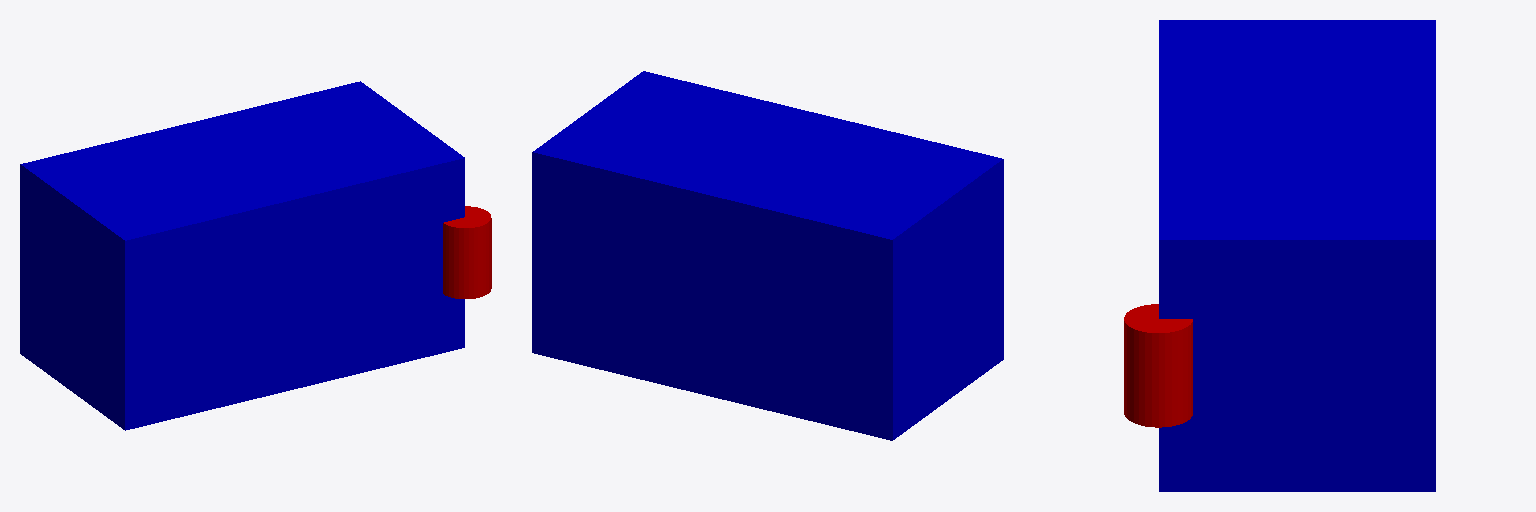
URDF robot description (quadruped):
<?xml version="1.0"?>
<robot name="quadruped" xmlns:xacro="http://ros.org/wiki/xacro">

    <!--
    Dimensions from quadruped.lua


    local FRAME_LEN = 80    - frame length in mm
    local FRAME_WIDTH = 150 - frame width in mm

    local COXA_LEN = 30     - distance (in mm) from coxa (aka hip) servo to femur servo
    local FEMUR_LEN = 85    - distance (in mm) from femur servo to tibia servo
    local TIBIA_LEN = 125   - distance (in mm) from tibia servo to foot
    -->


    <material name="blue">
        <color rgba="0 0 0.8 1"/>
    </material>

    <material name="white">
        <color rgba="1 1 1 1"/>
    </material>

    <material name="red">
        <color rgba="0.8 0 0 1"/>
    </material>

    <link name="base_link">
        <visual>
            <geometry>
                <box size="0.150 0.08 0.08"/>
            </geometry>
            <material name="blue"/>
        </visual>
        <collision>
            <geometry>
                <box size="0.150 0.08 0.08"/>
            </geometry>
        </collision>
        <inertial>
            <origin rpy="0 0 0" xyz="0 0 0"/>
            <mass value="0.1" />
            <inertia 
                ixx="0.000106667"
                ixy="0"
                ixz="0"
                iyy="0.000240833"
                iyz="0"
                izz="0.000240833" />
        </inertial>
    </link>

    <gazebo reference="base_link">
        <material>Gazebo/Blue</material>
    </gazebo>

    <!-- #FRONT RIGHT -->
    <link name="coxa_FR">
        <origin rpy="1.57 0 0" xyz="0.0 -0.015 0"/>
        <visual>
            <geometry>
                <cylinder length="0.03" radius="0.01"/>
            </geometry>
            <material name="red"/>
        </visual>
        <collision>
            <geometry>
                <cylinder length="0.03" radius="0.01"/>
            </geometry>
        </collision>
        <inertial>
            <origin rpy="0 0 0" xyz="0 0 0"/>
            <mass value="0.1" />
            <inertia 
                ixx="0.00001"
                ixy="0"
                ixz="0"
                iyy="0.00001"
                iyz="0"
                izz="0.000005" />
        </inertial>
    </link>

    <gazebo reference="coxa_FR">
        <material>Gazebo/Red</material>
    </gazebo>

    <!--
    <link name="femur_FR">
        <origin xyz="0 0 -0.0425"/>
        <visual>
            <geometry>
                <cylinder length="0.085" radius="0.01"/>
            </geometry>
            <material name="white"/>
        </visual>
        <collision>
            <geometry>
                <cylinder length="0.085" radius="0.01"/>
            </geometry>
        </collision>
        <inertial>
            <origin rpy="0 0 0" xyz="0 0 0"/>
            <mass value="0.1" />
            <inertia 
                ixx="6.27083E-05"
                ixy="0"
                ixz="0"
                iyy="6.27083E-05"
                iyz="0"
                izz="0.000005" />
        </inertial>
    </link>

    <gazebo reference="femur_FR">
        <material>Gazebo/White</material>
    </gazebo>

    <link name="tibia_FR">
        <origin xyz="0 0 -0.0625"/>
        <visual>
            <geometry>
                <cylinder length="0.125" radius="0.01"/>
            </geometry>
            <material name="blue"/>
        </visual>
        <collision>
            <geometry>
                <cylinder length="0.125" radius="0.01"/>
            </geometry>
        </collision>
        <inertial>
            <origin rpy="0 0 0" xyz="0 0 0"/>
            <mass value="0.1" />
            <inertia 
                ixx="0.000132708"
                ixy="0"
                ixz="0"
                iyy="0.000132708"
                iyz="0"
                izz="0.000005" />
        </inertial>
    </link>

    <gazebo reference="tibia_FR">
        <material>Gazebo/Blue</material>
    </gazebo>

    <link name="foot_FR">
        <visual>
            <geometry>
                <sphere radius="0.02"/>
            </geometry>
            <material name="red"/>
        </visual>
        <collision>
            <geometry>
                <sphere radius="0.02"/>
            </geometry>
        </collision>
        <inertial>
            <origin rpy="0 0 0" xyz="0 0 0"/>
            <mass value="0.1" />
            <inertia 
                ixx="0.000016"
                ixy="0"
                ixz="0"
                iyy="0.000016"
                iyz="0"
                izz="0.000016" />
        </inertial>
    </link>

    <gazebo reference="foot_FR">
        <material>Gazebo/Red</material>
    </gazebo>
    -->

    <joint name="coxaF_FR" type="revolute">
        <origin rpy="0 0 0.785398" xyz="0.075 -0.04 0"/>
        <axis xyz="0 0 1"/>
        <limit
            lower="-3.142"
            upper="3.142"
            effort="1000.0"
            velocity="0.5"/>
        <parent link="base_link"/>
        <child link="coxa_FR"/>
    </joint>

    <!--
    <joint name="femurF_FR" type="revolute">
        <origin rpy="4.71239 0 0" xyz="0 -0.03 0"/>
        <axis xyz="1 0 0"/>
        <limit
            lower="-3.142"
            upper="3.142"
            effort="1000.0"
            velocity="0.5"/>
        <parent link="coxa_FR"/>
        <child link="femur_FR"/>
    </joint>

    <joint name="tibiaF_FR" type="revolute">
        <origin rpy="1.5708 0 0" xyz="0 0 -0.085"/>
        <axis xyz="1 0 0"/>
        <limit
            lower="-3.142"
            upper="3.142"
            effort="1000.0"
            velocity="0.5"/>
        <parent link="femur_FR"/>
        <child link="tibia_FR"/>
    </joint>

    <joint name="footF_FR" type="fixed">
        <origin rpy="0 0 0" xyz="0 0 -0.125" />
        <parent link="tibia_FR"/>
        <child link="foot_FR"/>
    </joint>
    -->

    <!-- #FRONT LEFT -->
    <!-- <link name="coxa_FL">
        <origin rpy="1.57 0 0" xyz="0.0 -0.015 0"/>
        <visual>
            <geometry>
                <cylinder length="0.03" radius="0.01"/>
            </geometry>
            <material name="red"/>
        </visual>
        <collision>
            <geometry>
                <cylinder length="0.03" radius="0.01"/>
            </geometry>
        </collision>
        <inertial>
            <origin rpy="0 0 0" xyz="0 0 0"/>
            <mass value="0.1" />
            <inertia 
                ixx="0.00001"
                ixy="0"
                ixz="0"
                iyy="0.00001"
                iyz="0"
                izz="0.000005" />
        </inertial>
    </link> -->

    <!-- <link name="coxa_FL">
        <visual>
            <geometry>
                <cylinder length="0.3" radius="0.1"/>
            </geometry>
            <origin rpy="1.57 0 0" xyz="0 -0.15 0"/>
            <material name="red"/>
        </visual>
    </link>

    <link name="femur_FL">
        <visual>
            <geometry>
                <cylinder length="0.85" radius="0.1"/>
            </geometry>
            <origin xyz="0 0 -0.425"/>
            <material name="white"/>
        </visual>
    </link>

    <link name="tibia_FL">
        <visual>
            <geometry>
                <cylinder length="1.25" radius="0.1"/>
            </geometry>
            <origin xyz="0 0 -0.625"/>
            <material name="blue"/>
        </visual>
    </link>

    <link name="foot_FL">
        <collision>
            <geometry>
                <sphere radius="0.2"/>
            </geometry>
        </collision>
        <mass value="200.843" />
        <visual>
            <geometry>
                <sphere radius="0.2"/>
            </geometry>
            <material name="red"/>
        </visual>
    </link>

    <joint name="coxaF_FL" type="revolute">
        <axis xyz="0 0 1"/>
        <limit effort="1000.0" velocity="0.5"/>
        <parent link="base_link"/>
        <child link="coxa_FL"/>
        <origin rpy="0 0 2.35619" xyz="0.74 0.4 0"/>
    </joint>

    <joint name="femurF_FL" type="revolute">
        <axis xyz="1 0 0"/>
        <limit effort="1000.0" velocity="0.5"/>
        <parent link="coxa_FL"/>
        <child link="femur_FL"/>
        <origin rpy="4.71239 0 0" xyz="0 -0.3 0"/>
    </joint>

    <joint name="tibiaF_FL" type="revolute">
        <axis xyz="1 0 0"/>
        <limit effort="1000.0" velocity="0.5"/>
        <parent link="femur_FL"/>
        <child link="tibia_FL"/>
        <origin rpy="1.5708 0 0" xyz="0 0 -0.85"/>
    </joint>

    <joint name="footF_FL" type="fixed">
        <parent link="tibia_FL"/>
        <child link="foot_FL"/>
        <origin xyz="0 0 -1.25"/>
    </joint> -->

    <!-- BACK RIGHT -->

    <!-- <link name="coxa_BR">

    <visual>
        <geometry>
            <cylinder length="0.3" radius="0.1"/>
        </geometry>
        <origin rpy="1.57 0 0" xyz="0.0 -0.15 0"/>
        <material name="red"/>
    </visual>

    </link>

    <link name="femur_BR">
        <visual>
            <geometry>
                <cylinder length="0.85" radius="0.1"/>
            </geometry>
            <origin xyz="0 0 -0.425"/>
            <material name="white"/>
        </visual>
    </link>

    <link name="tibia_BR">
        <visual>
            <geometry>
                <cylinder length="1.25" radius="0.1"/>
            </geometry>
            <origin xyz="0 0 -0.625"/>
            <material name="blue"/>
        </visual>
    </link>

    <link name="foot_BR">
        <collision>
            <geometry>
                <sphere radius="0.2"/>
            </geometry>
        </collision>
        <mass value="200.843" />
        <visual>
            <geometry>
                <sphere radius="0.2"/>
            </geometry>
            <material name="red"/>
        </visual>
    </link>

    <joint name="coxaF_BR" type="revolute">
        <axis xyz="0 0 1"/>
        <limit effort="1000.0" velocity="0.5"/>
        <parent link="base_link"/>
        <child link="coxa_BR"/>
        <origin rpy="0 0 3.92699" xyz="-0.75 0.4 0"/>
    </joint>

    <joint name="femurF_BR" type="revolute">
        <axis xyz="1 0 0"/>
        <limit effort="1000.0" velocity="0.5"/>
        <parent link="coxa_BR"/>
        <child link="femur_BR"/>
        <origin rpy="4.71239 0 0" xyz="0 -0.3 0"/>
    </joint>

    <joint name="tibiaF_BR" type="revolute">
        <axis xyz="1 0 0"/>
        <limit effort="1000.0" velocity="0.5"/>
        <parent link="femur_BR"/>
        <child link="tibia_BR"/>
        <origin rpy="1.5708 0 0" xyz="0 0 -0.85"/>
    </joint>

    <joint name="footF_BR" type="fixed">
        <parent link="tibia_BR"/>
        <child link="foot_BR"/>
        <origin xyz="0 0 -1.25"/>
    </joint> -->

    <!-- BACK LEFT -->

    <!-- <link name="coxa_BL">
        <visual>
            <geometry>
                <cylinder length="0.3" radius="0.1"/>
            </geometry>
            <origin rpy="1.57 0 0" xyz="0.0 -0.15 0"/>
            <material name="red"/>
        </visual>
    </link>

    <link name="femur_BL">
        <visual>
            <geometry>
                <cylinder length="0.85" radius="0.1"/>
            </geometry>
            <origin xyz="0 0 -0.425"/>
            <material name="white"/>
        </visual>
    </link>

    <link name="tibia_BL">
        <visual>
            <geometry>
                <cylinder length="1.25" radius="0.1"/>
            </geometry>
            <origin xyz="0 0 -0.625"/>
            <material name="blue"/>
        </visual>
    </link>

    <link name="foot_BL">
        <collision>
            <geometry>
                <sphere radius="0.2"/>
            </geometry>
            </collision>
            <mass value="200.843" />
        <visual>
            <geometry>
                <sphere radius="0.2"/>
            </geometry>
            <material name="red"/>
        </visual>
    </link>

    <joint name="coxaF_BL" type="revolute">
        <axis xyz="0 0 1"/>
        <limit effort="1000.0" velocity="0.5"/>
        <parent link="base_link"/>
        <child link="coxa_BL"/>
        <origin rpy="0 0 5.48033" xyz="-0.75 -0.4 0"/>
    </joint>

    <joint name="femurF_BL" type="revolute">
        <axis xyz="1 0 0"/>
        <limit effort="1000.0" velocity="0.5"/>
        <parent link="coxa_BL"/>
        <child link="femur_BL"/>
        <origin rpy="4.71239 0 0" xyz="0 -0.3 0"/>
    </joint>

    <joint name="tibiaF_BL" type="revolute">
        <axis xyz="1 0 0"/>
        <limit effort="1000.0" velocity="0.5"/>
        <parent link="femur_BL"/>
        <child link="tibia_BL"/>
        <origin rpy="1.5708 0 0" xyz="0 0 -0.85"/>
    </joint>

    <joint name="footF_BL" type="fixed">
        <parent link="tibia_BL"/>
        <child link="foot_BL"/>
        <origin xyz="0 0 -1.25"/>
    </joint> -->

</robot>

--- Render facts (derived) ---
The picture shows the robot from 3 angles, left to right: view 1: azimuth 30°, elevation 25°; view 2: azimuth 150°, elevation 25°; view 3: azimuth 270°, elevation 25°; orthographic projection.
Model quadruped with 2 links and 1 joints (1 revolute), rooted at base_link, posed every joint at zero.
Links seen in each view (by area): view 1: base_link, coxa_FR; view 2: base_link; view 3: base_link, coxa_FR.
Boxes of the visible links, x1,y1,x2,y2 form: base_link: (20, 81, 464, 430); coxa_FR: (443, 206, 491, 298); base_link: (532, 71, 1003, 440); base_link: (1159, 20, 1435, 491); coxa_FR: (1124, 304, 1192, 427).
Size in the robot's own frame: 0.16 by 0.09 by 0.08 metres.
Geometry: primitives only (box / cylinder / sphere), no mesh files.